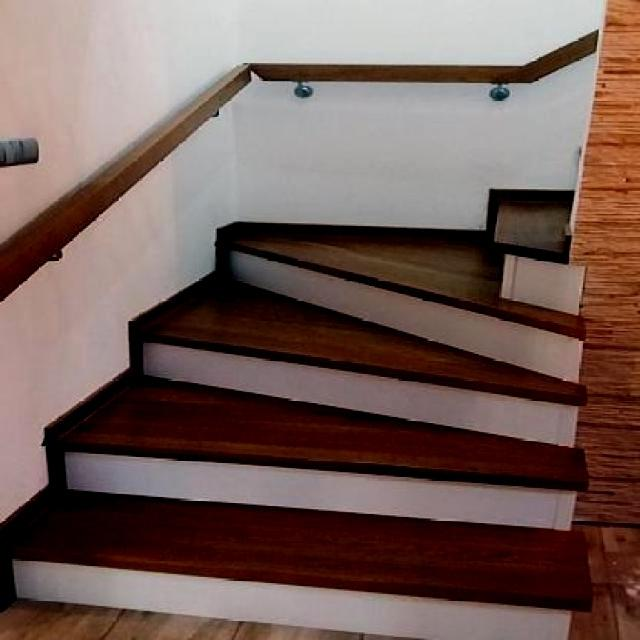stair: (6, 103, 640, 640)
